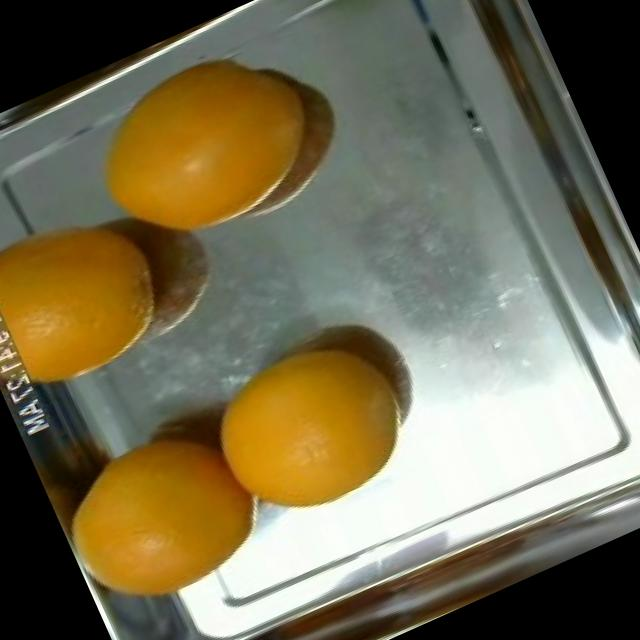Fruit: (167, 288, 449, 550), (36, 384, 302, 638), (0, 148, 230, 439)
